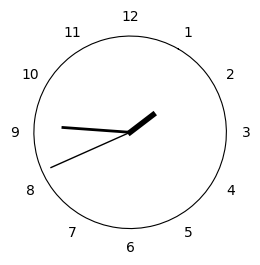12: (121, 9, 139, 23)
circle: (33, 36, 228, 229)
hours: (128, 111, 157, 135)
minutes: (61, 125, 129, 134)
seconds: (50, 134, 126, 167)
